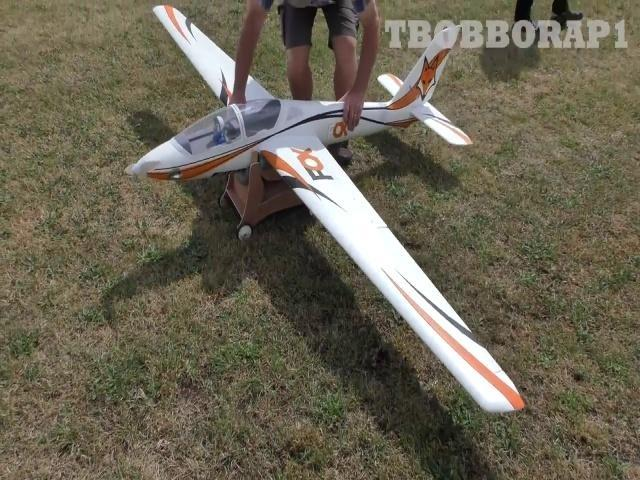Airplane: (125, 5, 524, 412)
